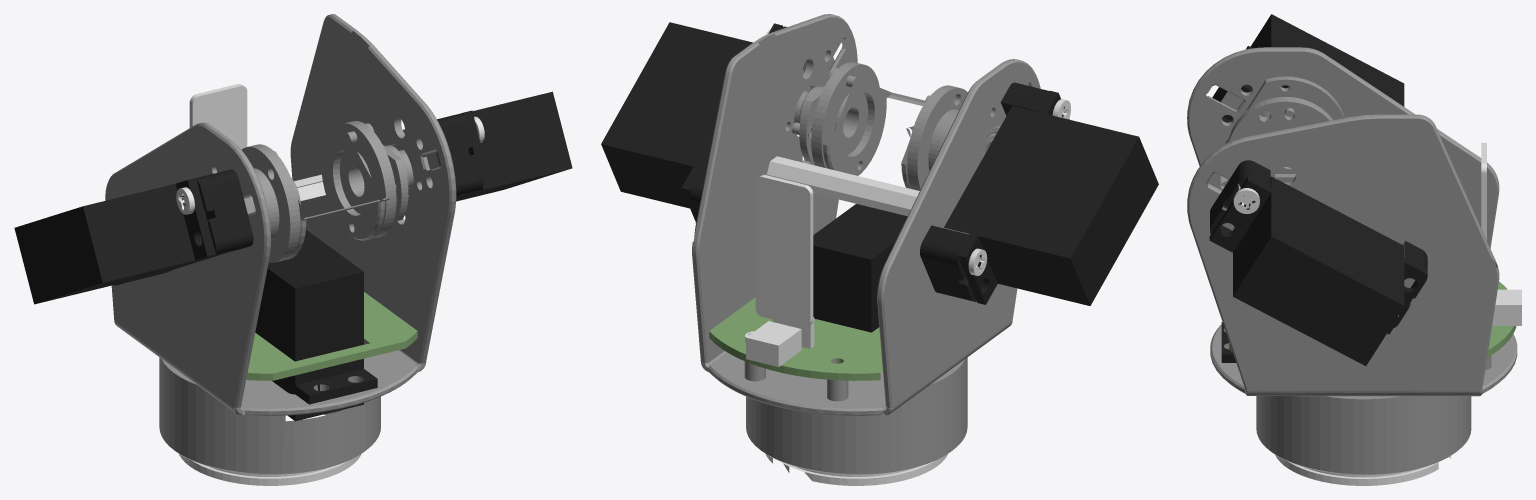
Rendered from uArm Base Top.fbx.
3 renders of one model, left to right at view 1: azimuth 30°, elevation 25°; view 2: azimuth 150°, elevation 25°; view 3: azimuth 270°, elevation 25°, orthographic. The views are drawn at different scales.
Parts seen in each view (by area): view 1: Uarm metal Assembly; view 2: Uarm metal Assembly; view 3: Uarm metal Assembly.
Part boxes in pixels (x1,y1,x2,y2): Uarm metal Assembly: (14,14,572,485); Uarm metal Assembly: (601,14,1158,485); Uarm metal Assembly: (1187,14,1521,485).
Size of the model in its own units: 137 by 108 by 87.13.
